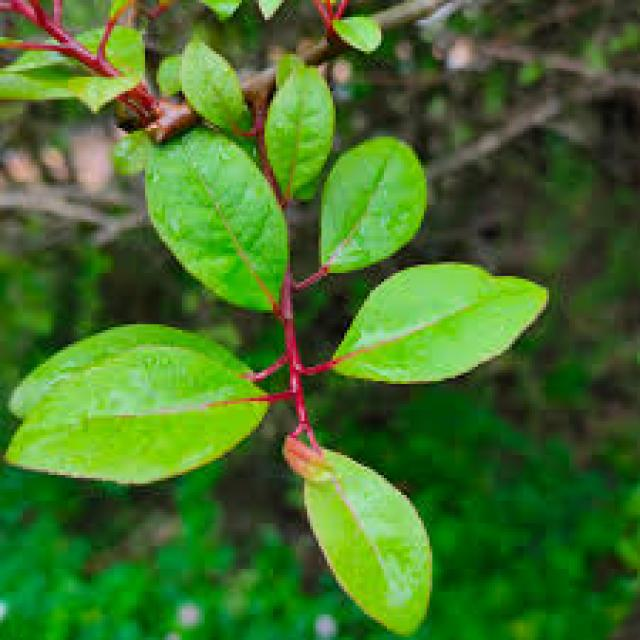Gugal: (0, 17, 558, 632)
